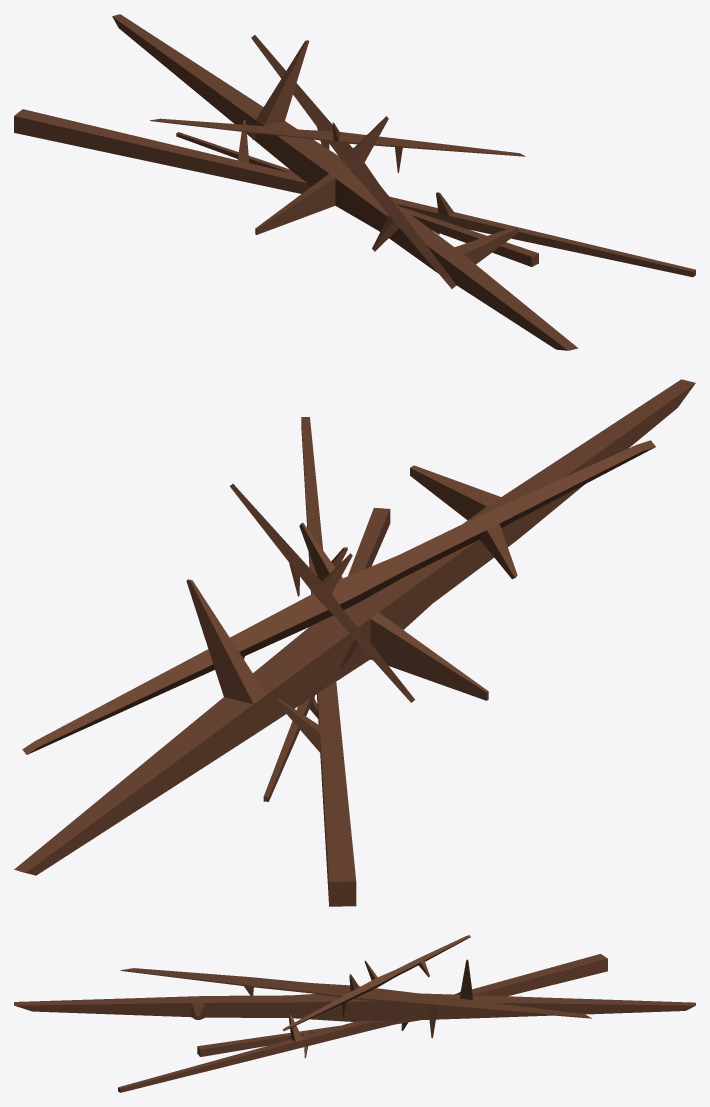
File: Asthaufen_New.fbx
3 renders of one model, top to bottom at view 1: azimuth 30°, elevation 25°; view 2: azimuth 150°, elevation 25°; view 3: azimuth 270°, elevation 25°, orthographic. The views are drawn at different scales.
Visible parts, largest first — view 1: Asthaufen new; view 2: Asthaufen new; view 3: Asthaufen new.
Part boxes in pixels (x1,y1,x2,y2): Asthaufen new: (14, 14, 695, 350); Asthaufen new: (14, 379, 695, 906); Asthaufen new: (14, 935, 695, 1092).
Size of the model in its own units: 1.15 by 0.3658 by 2.52.
